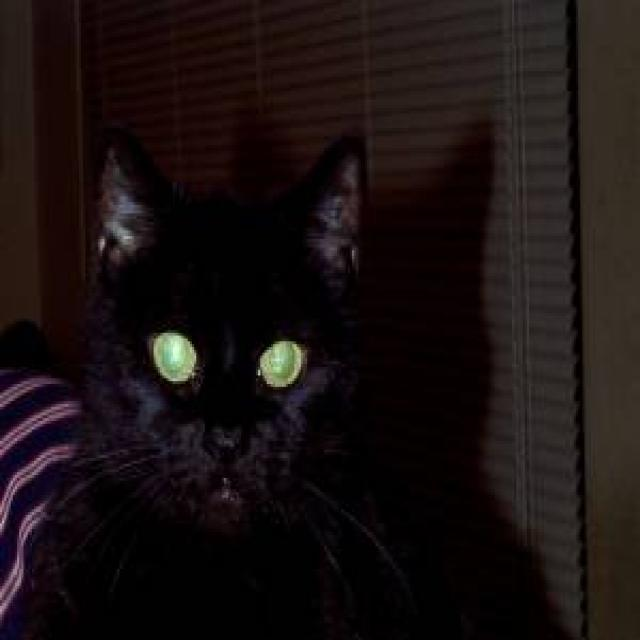Bombay: (77, 122, 371, 535)
